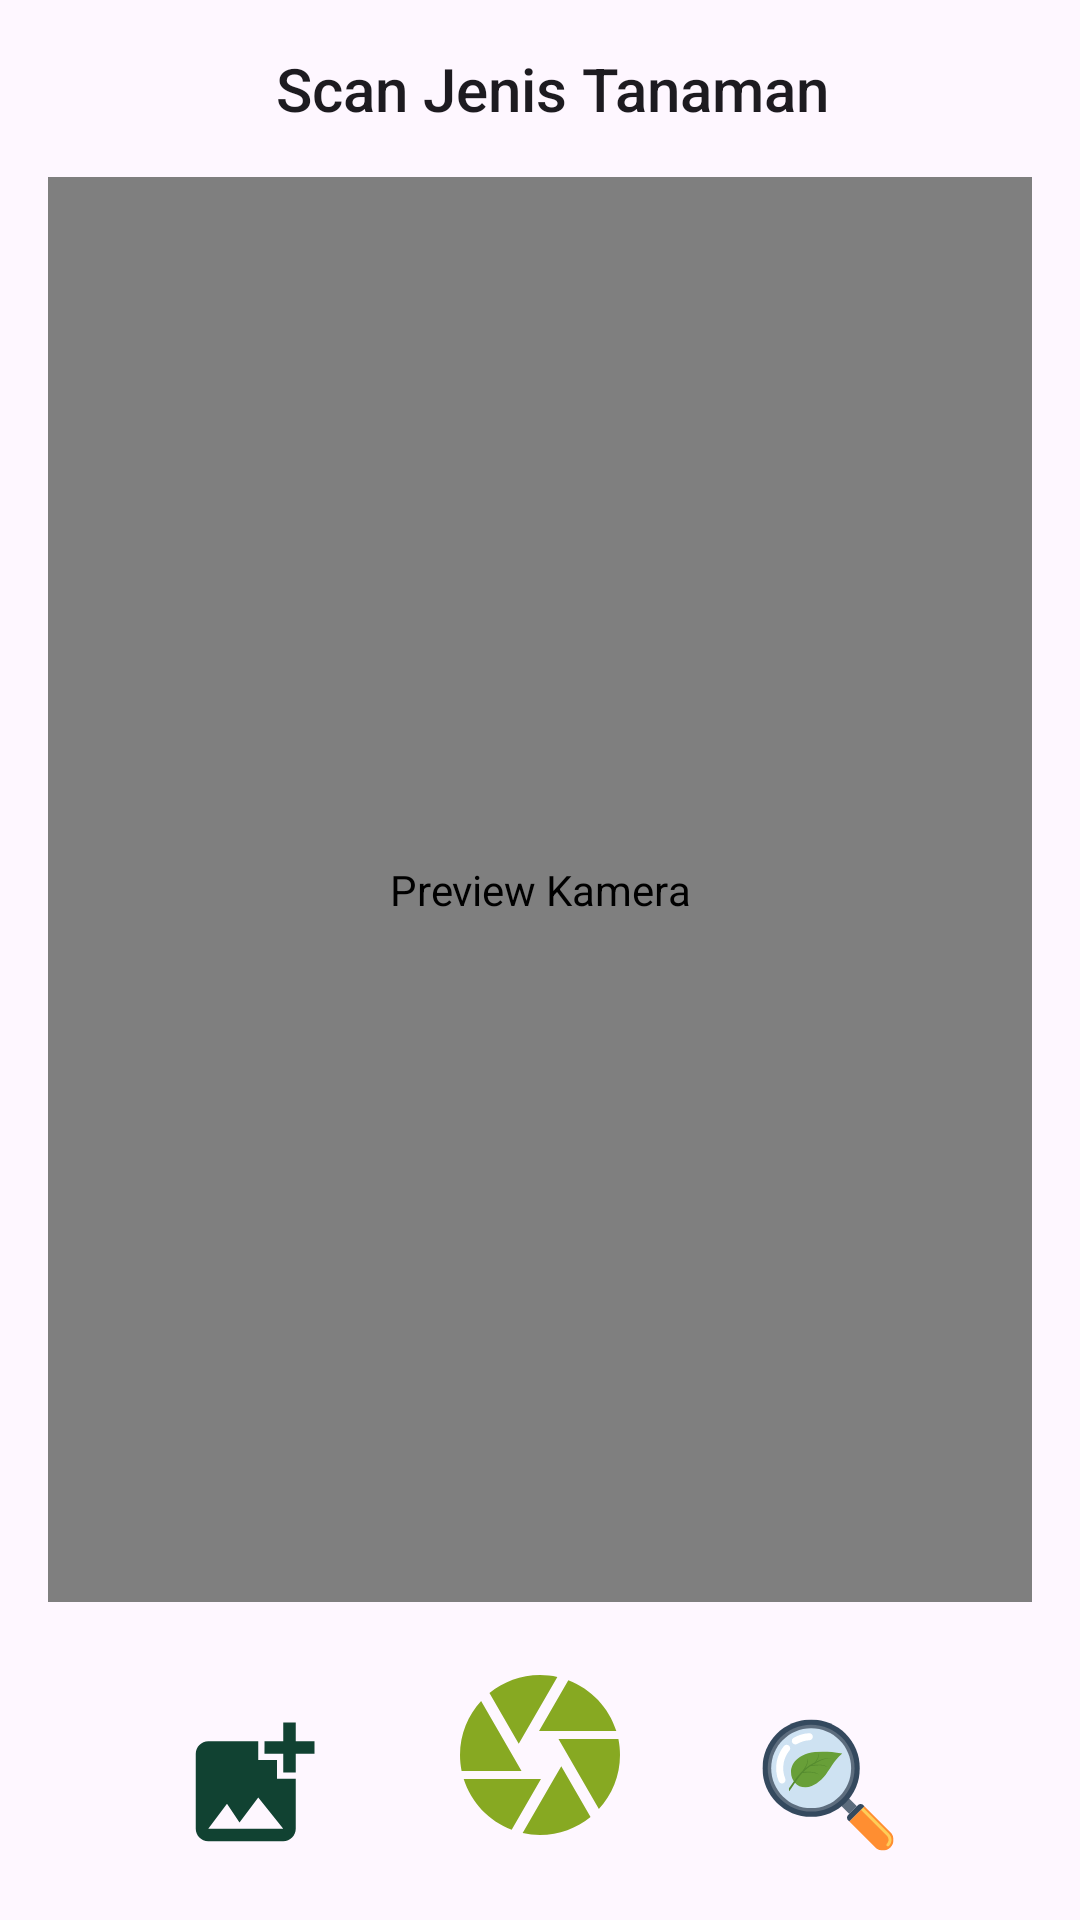

Where to tap for icons on this 1080x1920 app screen, as [x,y]:
Tombol Ambil Gambar: [540,1755]
Tombol Mulai analisis: [828,1785]
Tombol Tambah dari Galeri: [255,1782]
